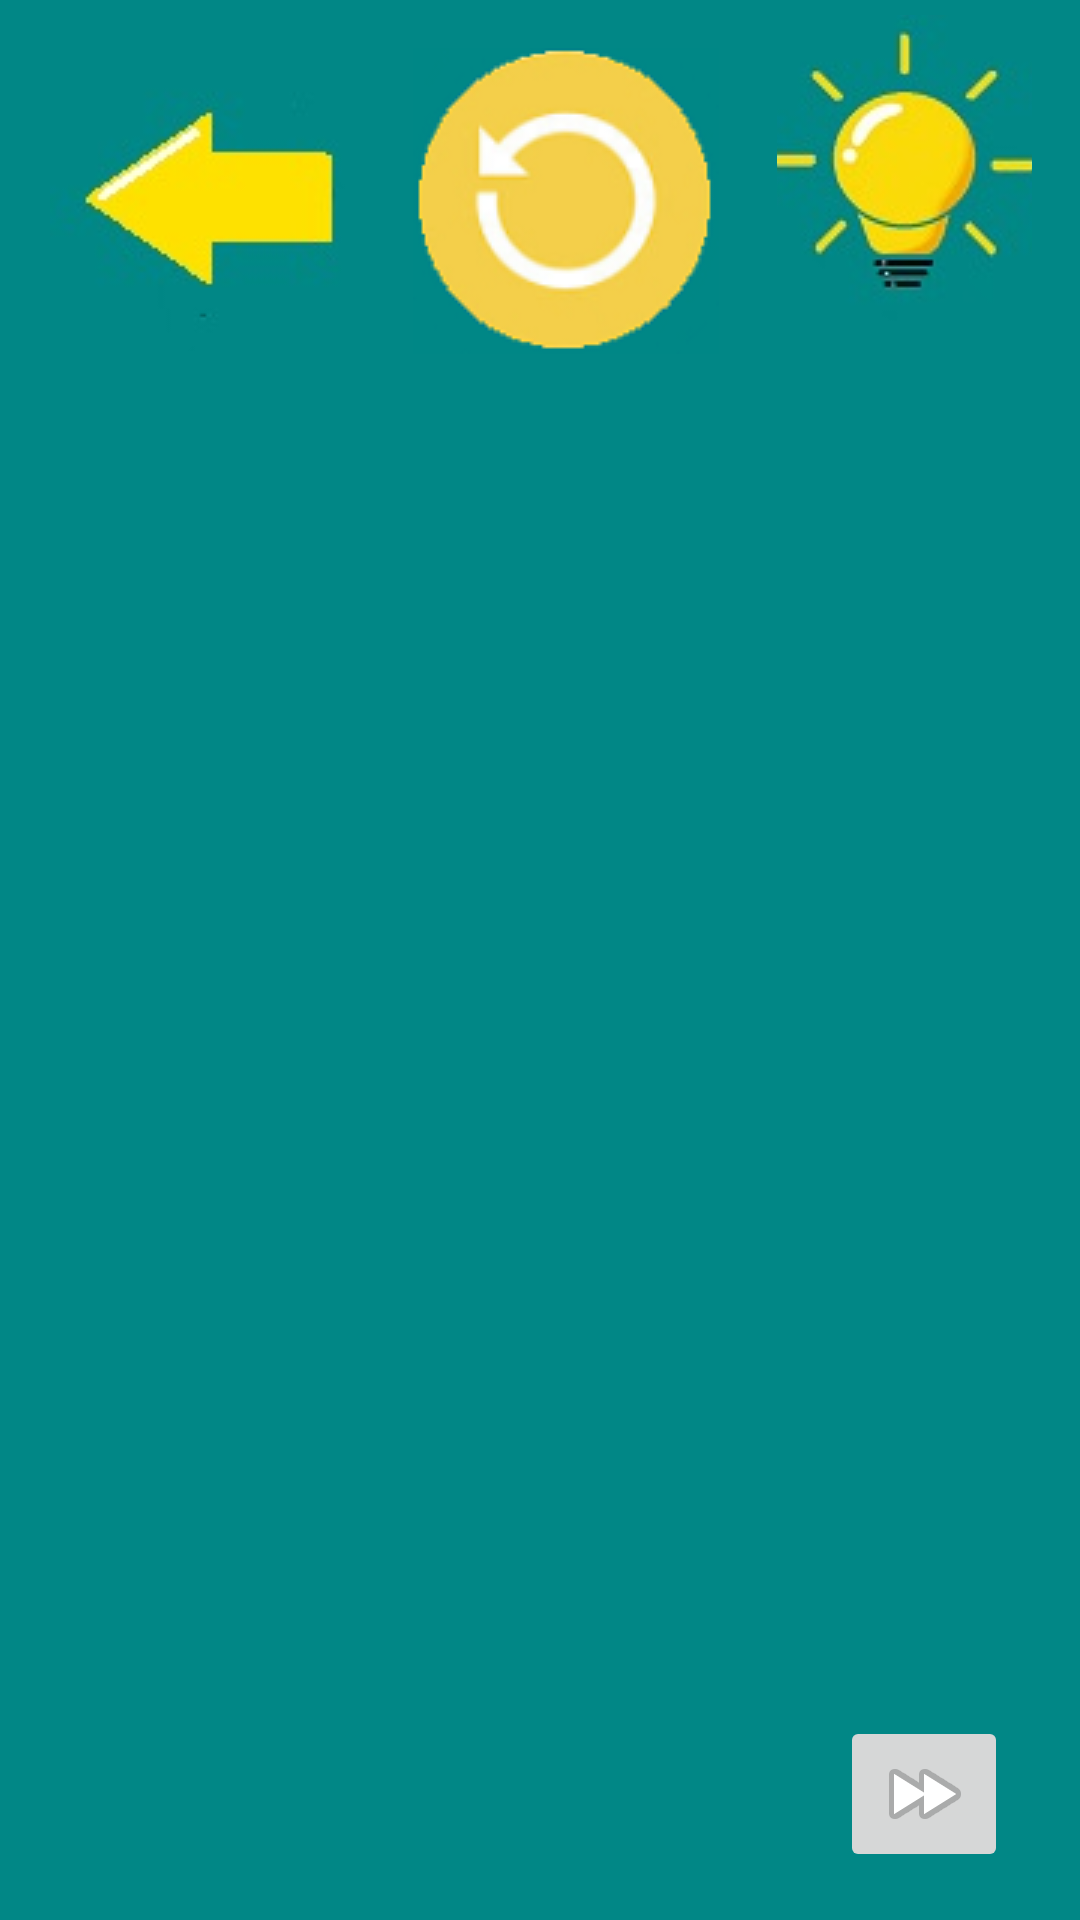

Icon bounding boxes for this 1080 × 1920 phone screenshot, format (x1, y1, x2, y2):
back ready: (83, 109, 336, 316)
help ready: (777, 30, 1032, 290)
replay ready: (418, 50, 711, 349)
